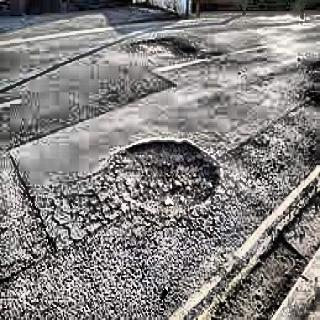alligator-crack: (35, 180, 142, 247)
pothole: (108, 140, 220, 212)
